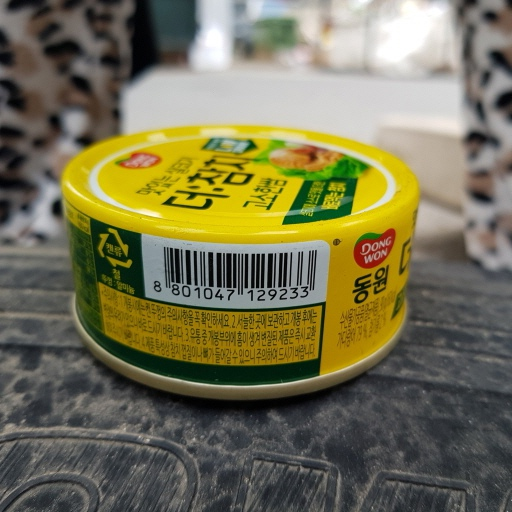Metal_1: (63, 126, 423, 395)
